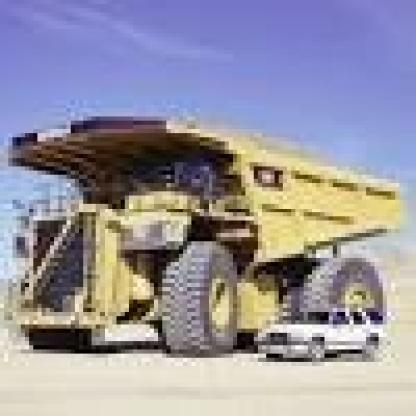dump_truck: (16, 92, 412, 395)
